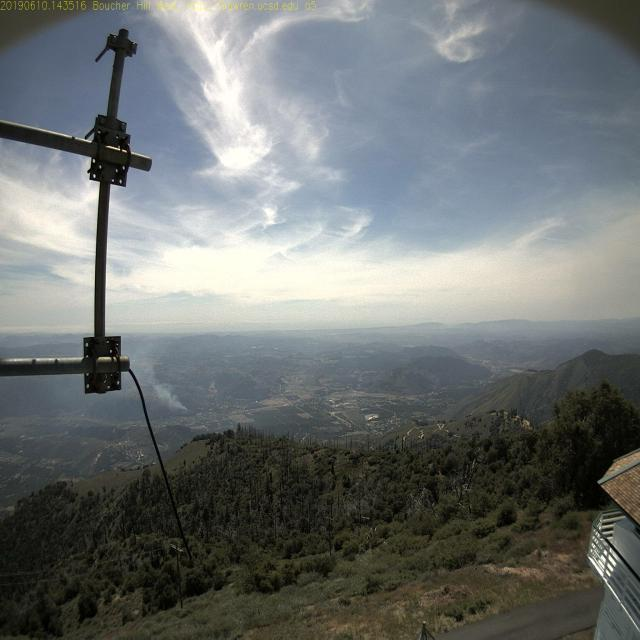smoke: (171, 382, 198, 423)
